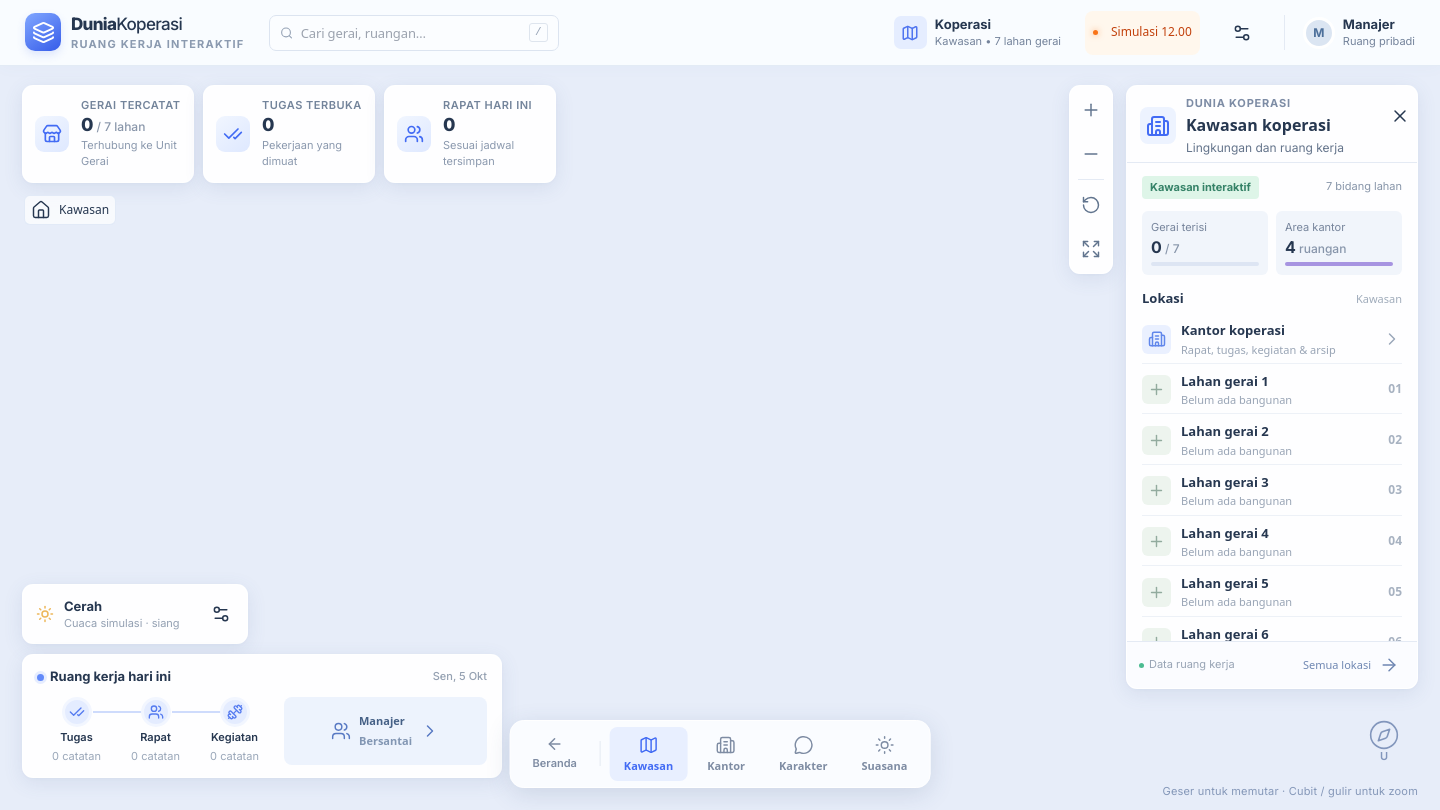
Test: gerai kosong mengarah ke form asli, tanpa membuat data pratinjau
The width and height of the screenshot is (1440, 810).
Click the button "Lahan gerai 1 Belum ada bangunan 01" at (1272, 390), box [1142, 366, 1402, 414]
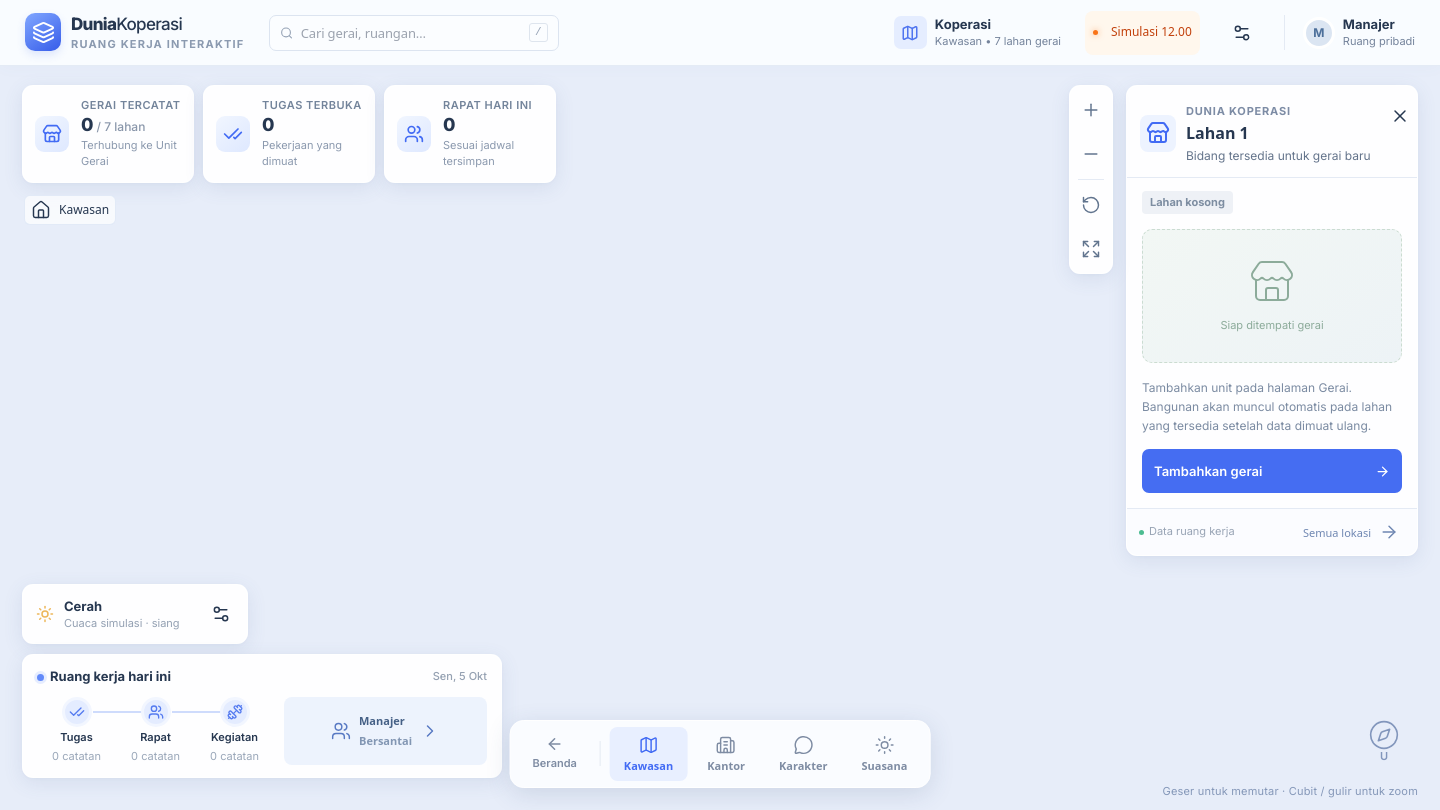
Expected: the text "Lahan kosong" is shown, [1142, 191, 1233, 214]
